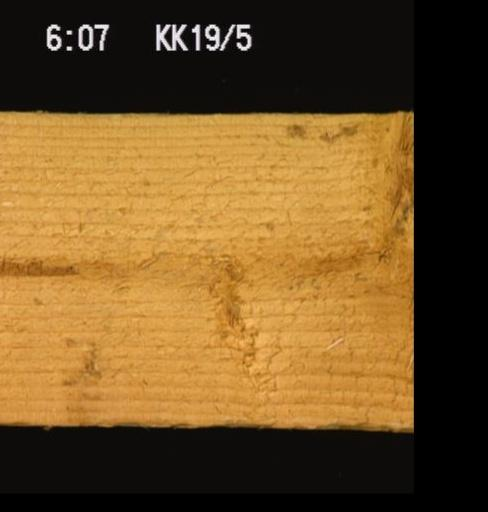small_knot: (206, 249, 247, 287)
